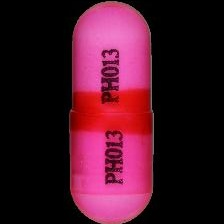68788-9688: (0, 0, 224, 224)
